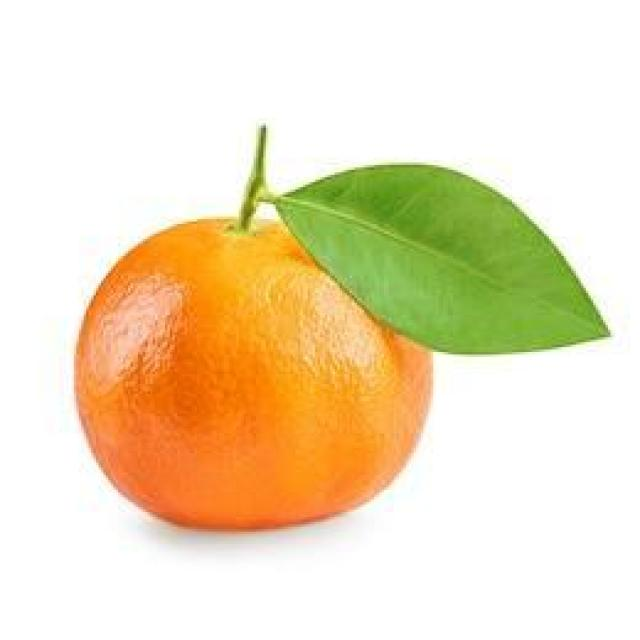orange: (72, 216, 437, 530)
